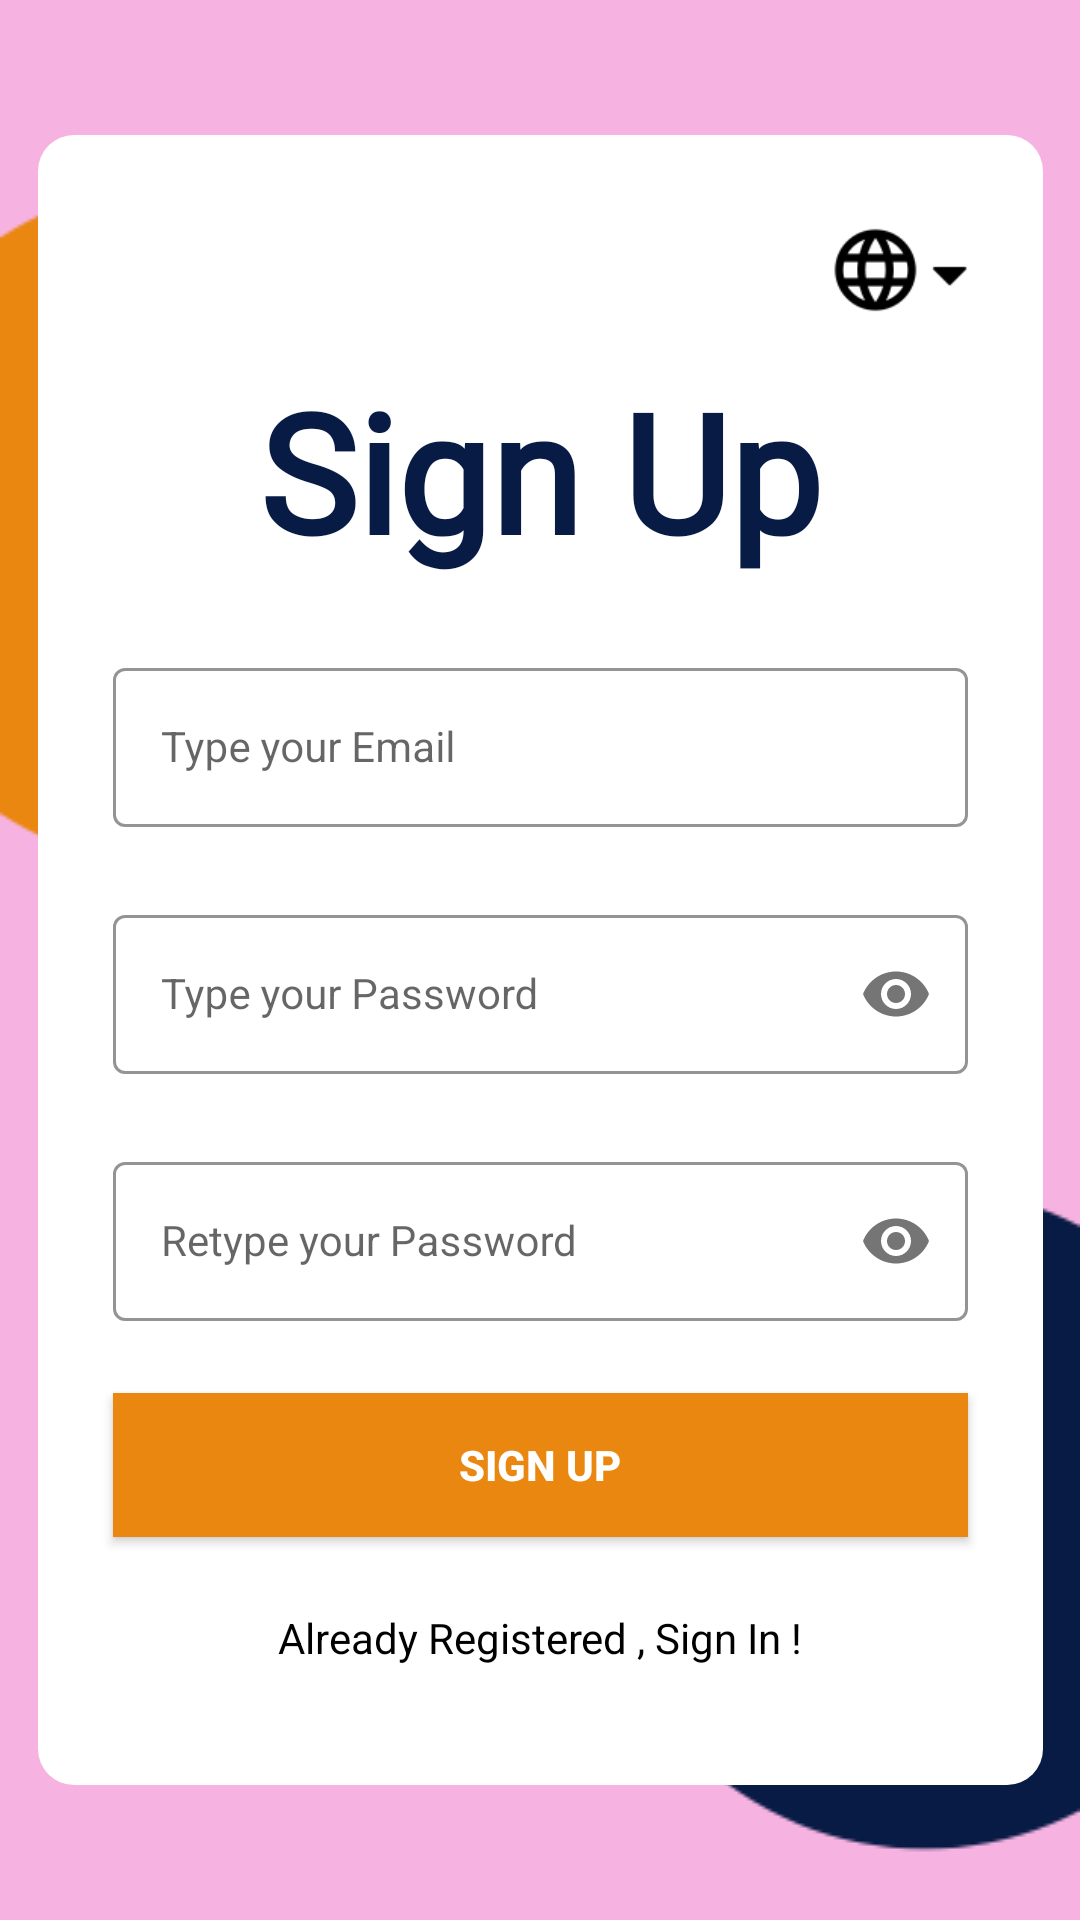

Locate icon controls on the screen. Image size 1080px×1920px, boxes as [x1,y1,x2,y2].
select lang: [834,229,967,311]
